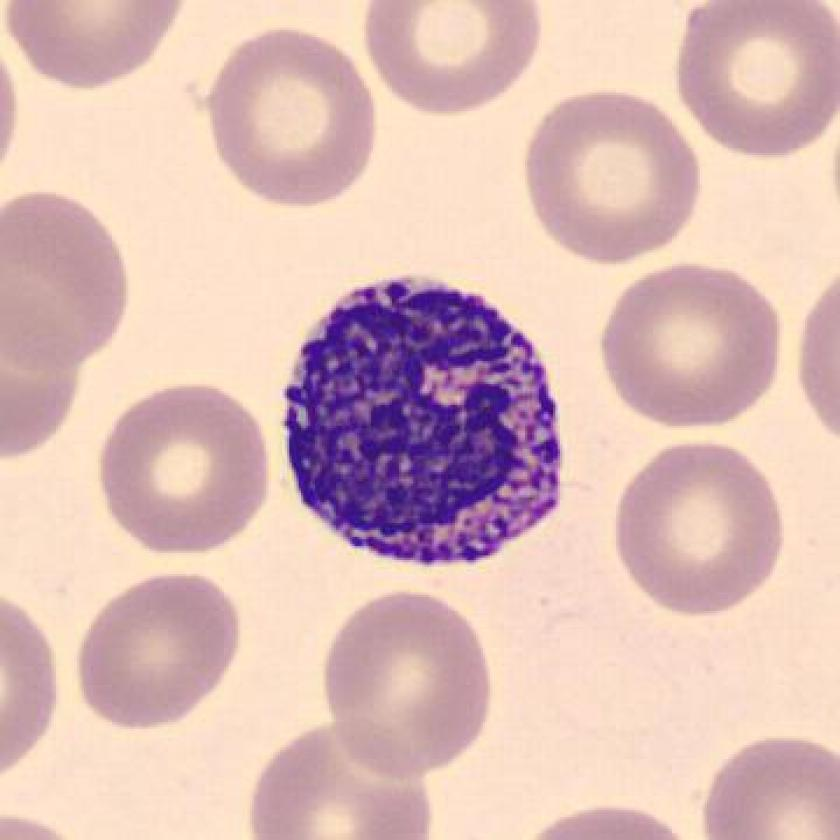basophil: (274, 272, 575, 573)
